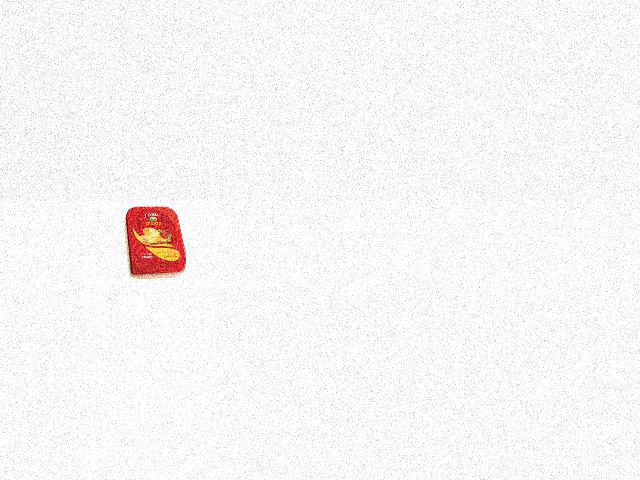cheese: (123, 202, 185, 278)
